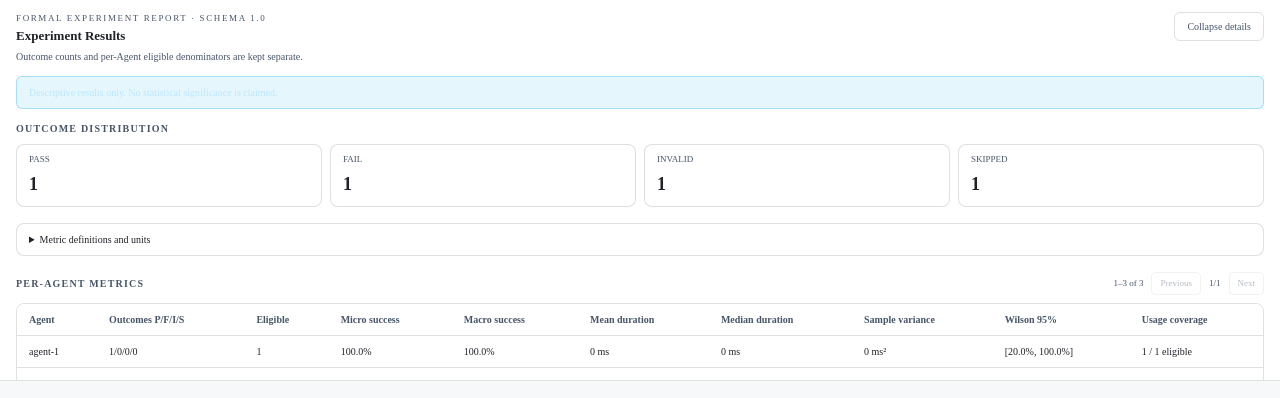
BenchmarkExperimentResults › keeps the significance boundary visible when details collapse
Click the button "Collapse details" at (1219, 26), box [1174, 12, 1264, 41]
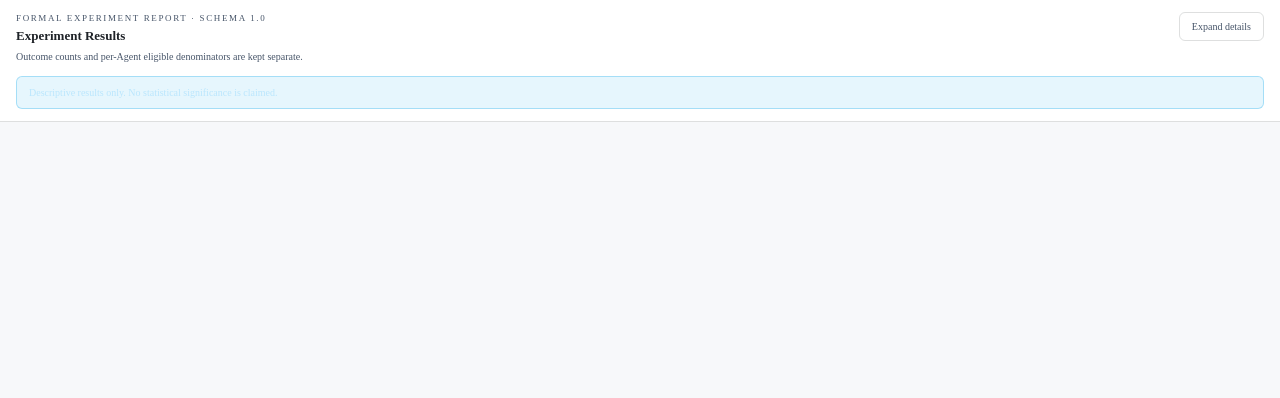
Check: the text "Descriptive results only. No statistical significance is claimed." is shown, box [16, 76, 1264, 109]
Check: the heading "Per-Agent metrics" is gone
Check: the button "Expand details" is collapsed, box [1179, 12, 1264, 41]
